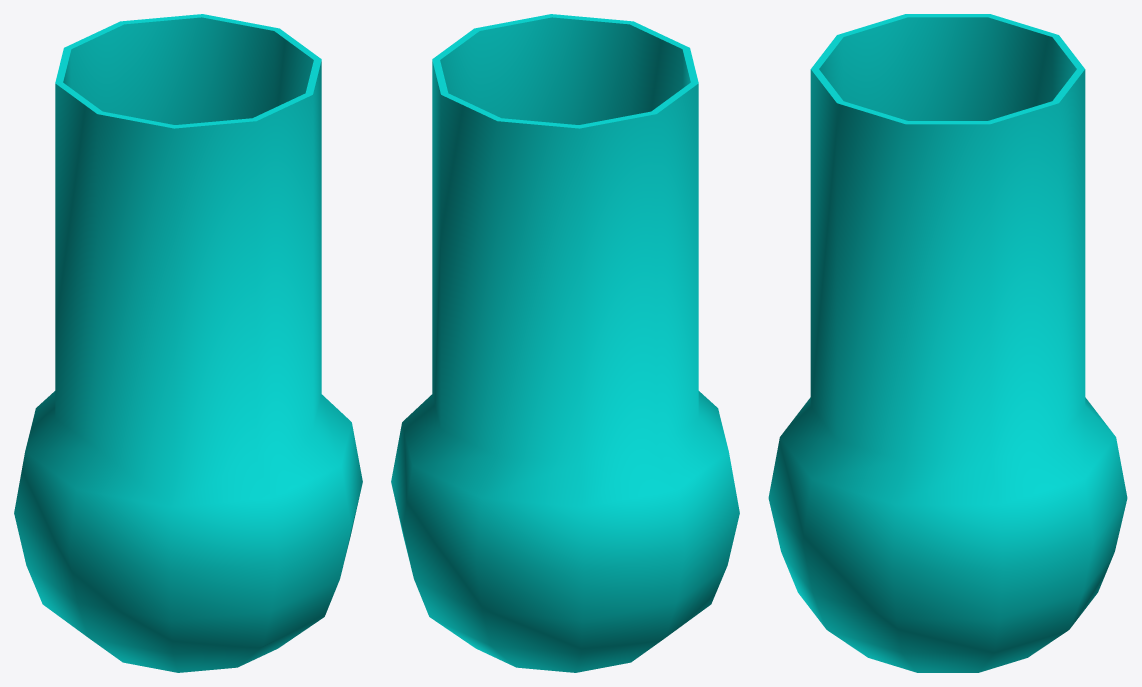
Rendered from Beaker2.fbx.
3 views of the same model, side by side, from view 1: azimuth 30°, elevation 25°; view 2: azimuth 150°, elevation 25°; view 3: azimuth 270°, elevation 25° (orthographic).
Parts seen in each view (by area): view 1: Cylinder.127; view 2: Cylinder.127; view 3: Cylinder.127.
Boxes of the visible parts, x1,y1,x2,y2 form: Cylinder.127: [14, 14, 362, 672]; Cylinder.127: [391, 14, 739, 672]; Cylinder.127: [768, 14, 1127, 672].
Bounding box in the file's own units: 0.1703 × 0.3105 × 0.1791.
